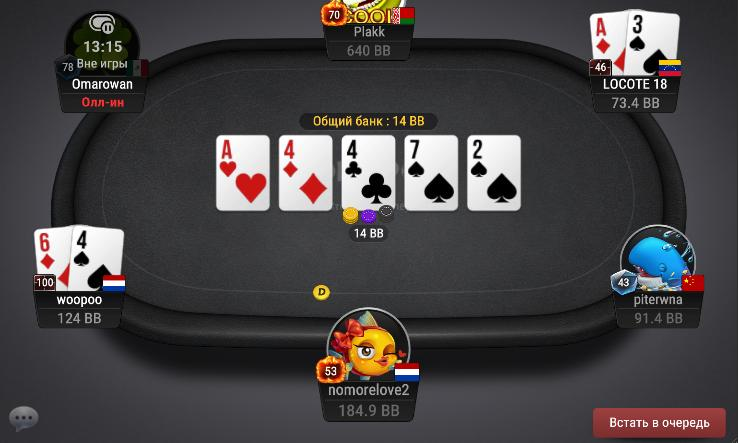2s: (468, 138, 521, 211)
3s: (626, 5, 681, 76)
4c: (343, 135, 395, 211)
4d: (279, 137, 331, 209)
4s: (71, 224, 123, 292)
6d: (34, 226, 72, 292)
7s: (405, 136, 456, 210)
Ad: (588, 12, 628, 77)
Ah: (217, 135, 269, 213)
